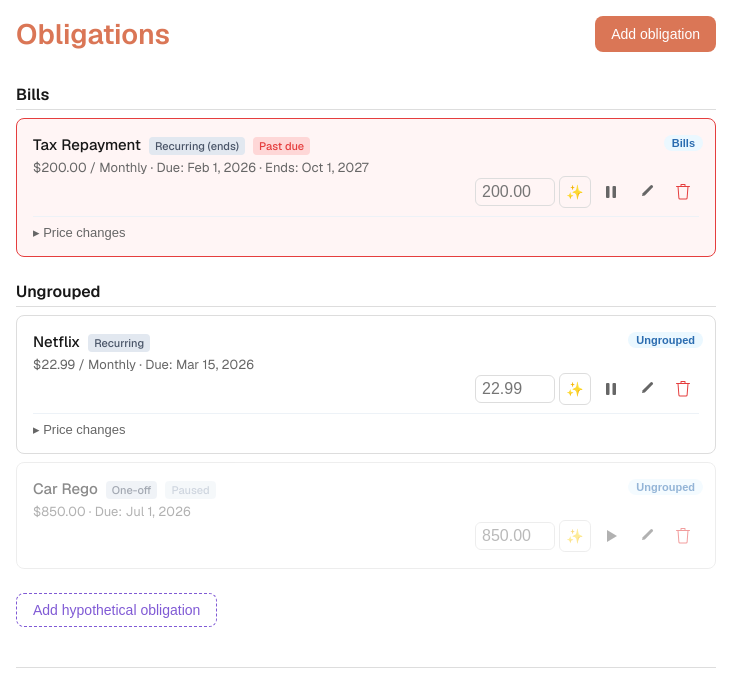
ObligationsPage › shows escalation count badge when rules exist
The image size is (733, 693).
expect the text "Netflix" is shown: met, box [33,332,80,351]
// Click to expand (which fetches escalations)
Click the button with aria-label "Toggle escalation rules for Netflix": (79, 430) [33,422,126,437]
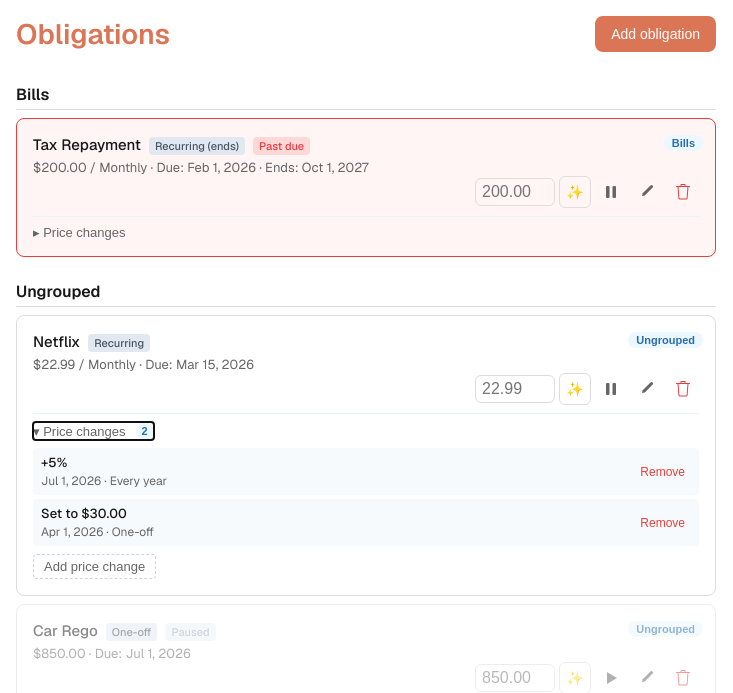
expect the text "2" is shown: met, box [136,422,154,440]
